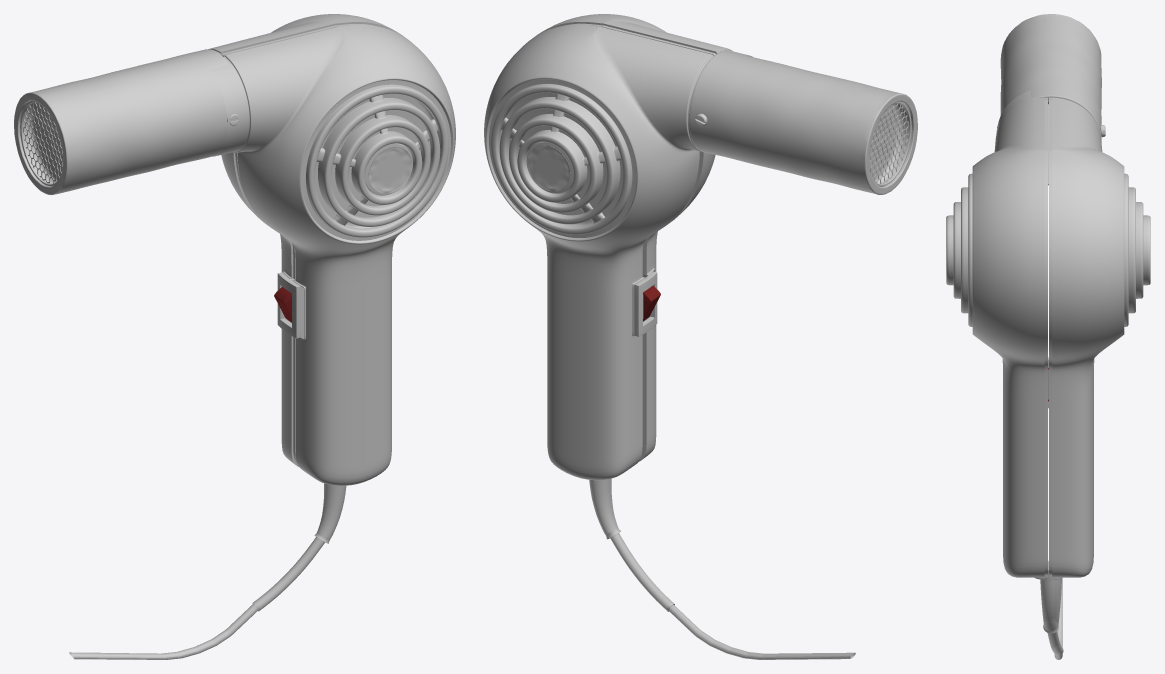
File: Hairdryer.fbx
3 views of the same model, side by side, from view 1: azimuth 30°, elevation 25°; view 2: azimuth 150°, elevation 25°; view 3: azimuth 270°, elevation 25° (orthographic). The views are drawn at different scales.
Parts seen in each view (by area): view 1: RetroHairDryer01.002; view 2: RetroHairDryer01.002; view 3: RetroHairDryer01.002.
Boxes of the visible parts, left/top/right/bottom form: RetroHairDryer01.002: left=14, top=14, right=455, bottom=659; RetroHairDryer01.002: left=484, top=14, right=917, bottom=659; RetroHairDryer01.002: left=946, top=14, right=1150, bottom=659.
Size of the model in its own units: 174 by 252 by 82.33.
